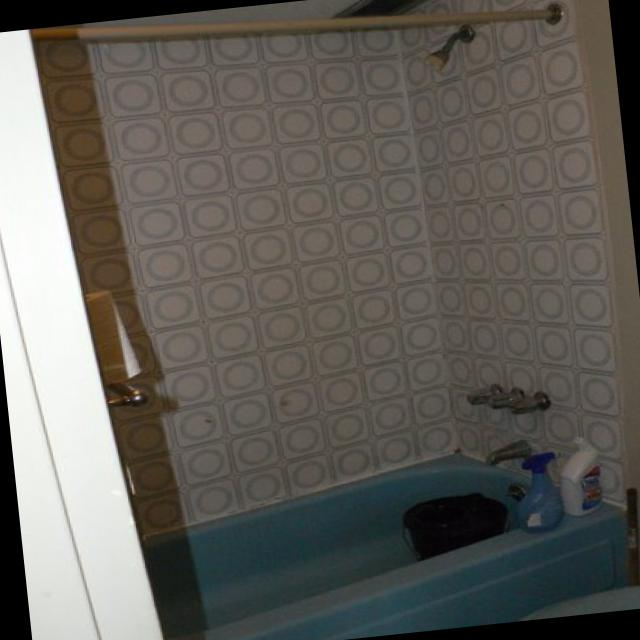Bath tub: (142, 450, 635, 640), (545, 585, 640, 616)
Bucket: (400, 490, 509, 585)
Faucet: (489, 438, 538, 464)
Taps: (470, 381, 551, 414)
cleaner: (514, 450, 565, 534), (561, 432, 609, 516)
curtain: (30, 5, 558, 40)
shower: (225, 141, 338, 233)
shower occluded: (426, 25, 479, 70)
